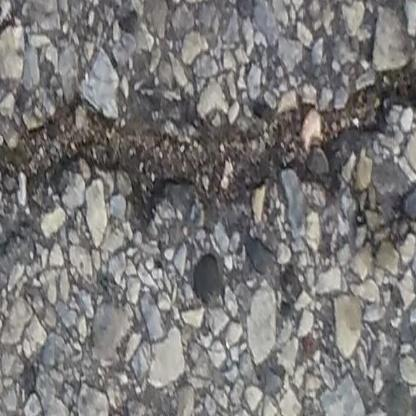Cracks: (0, 13, 416, 208)
